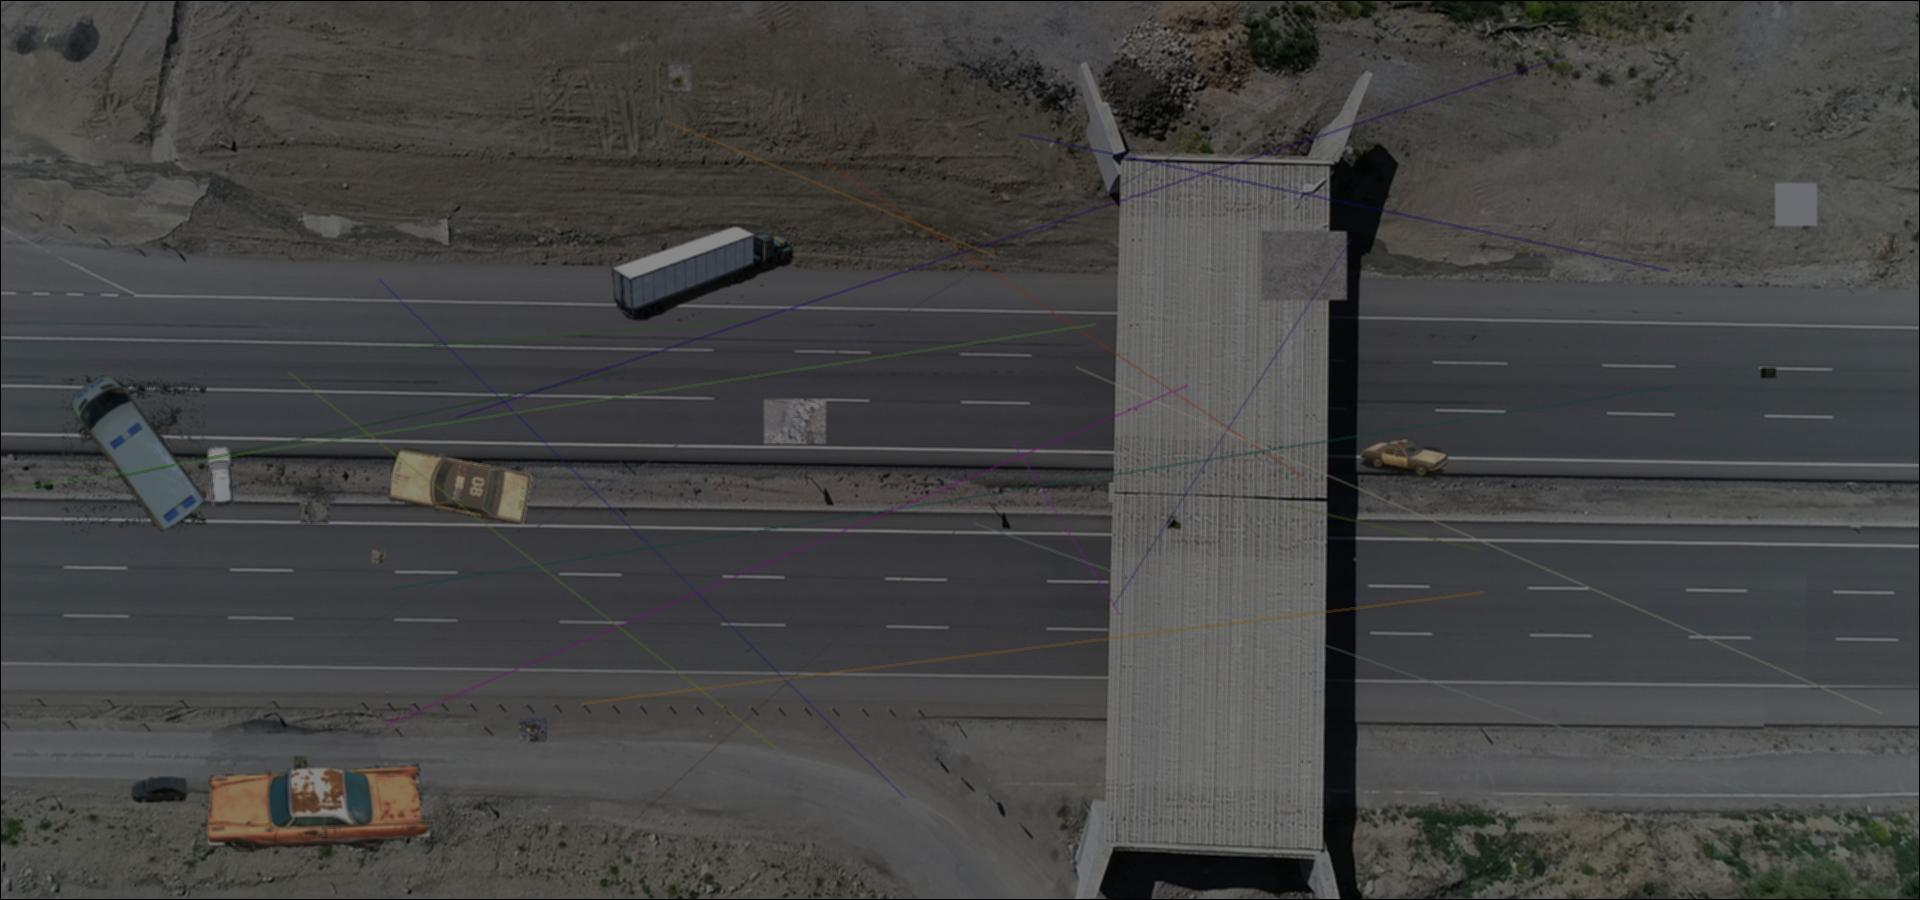arac: (196, 763, 459, 852), (62, 373, 206, 533), (605, 227, 795, 320), (389, 444, 533, 524), (1360, 438, 1449, 478), (203, 444, 238, 507), (131, 776, 189, 803)
